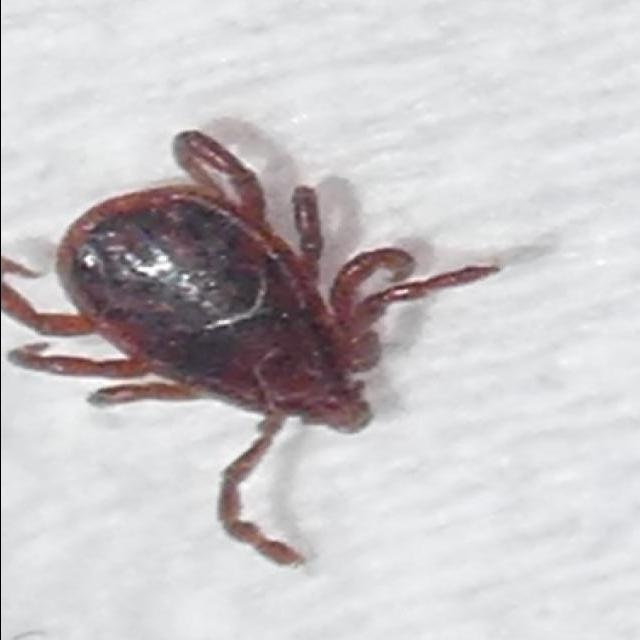Rhipicephalus Sanguineus-M: (0, 128, 500, 569)
